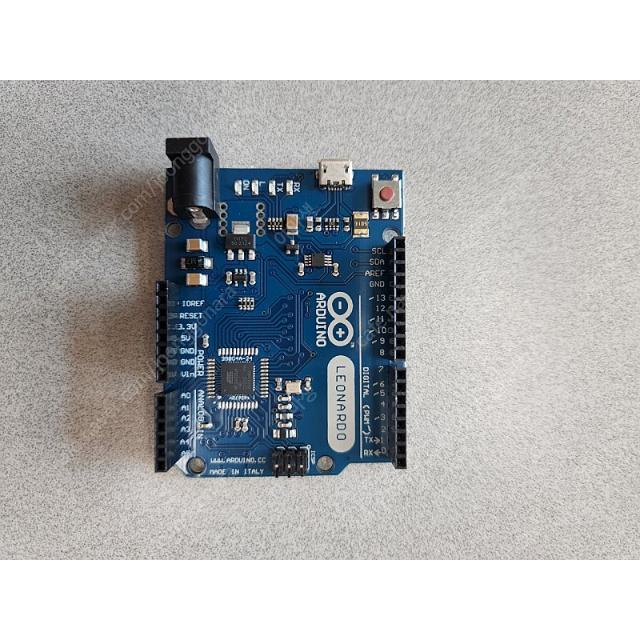Arduino-leonardo: (157, 139, 405, 478)
